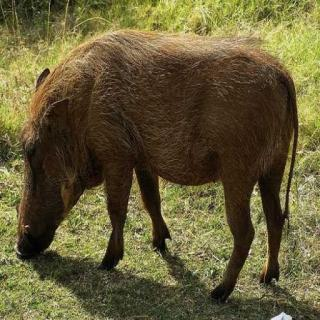Pig: (21, 28, 289, 282)
